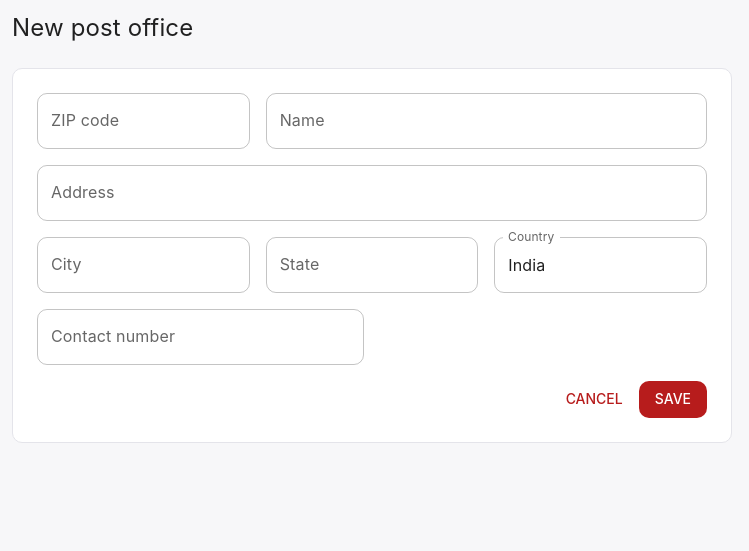
Test case: PostOfficeFormPage › validates and shows a duplicate ZIP on the field
Later steps or results of the test are not shown.
Click the button "Save" at (673, 399), box x1=639 y1=381 x2=707 y2=418
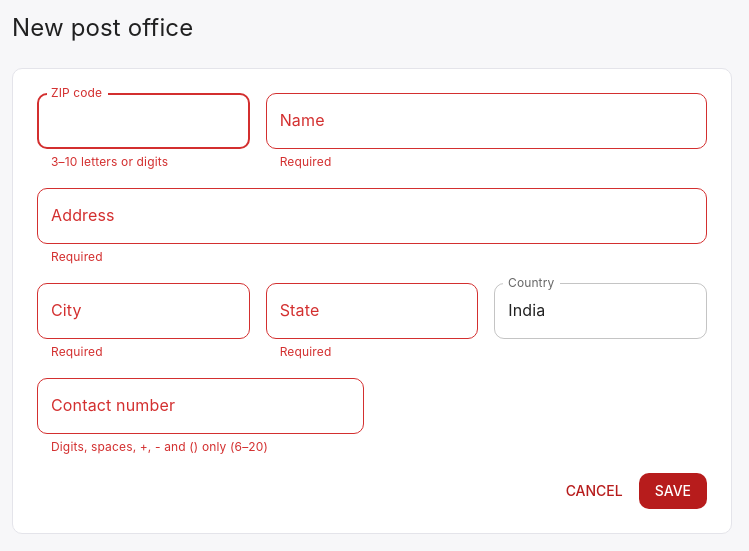
Expected: the text "3–10 letters or digits" is shown, x1=51 y1=154 x2=168 y2=169
